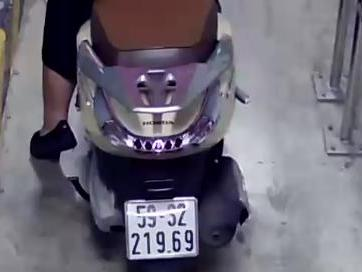num_plate: (122, 197, 199, 260)
